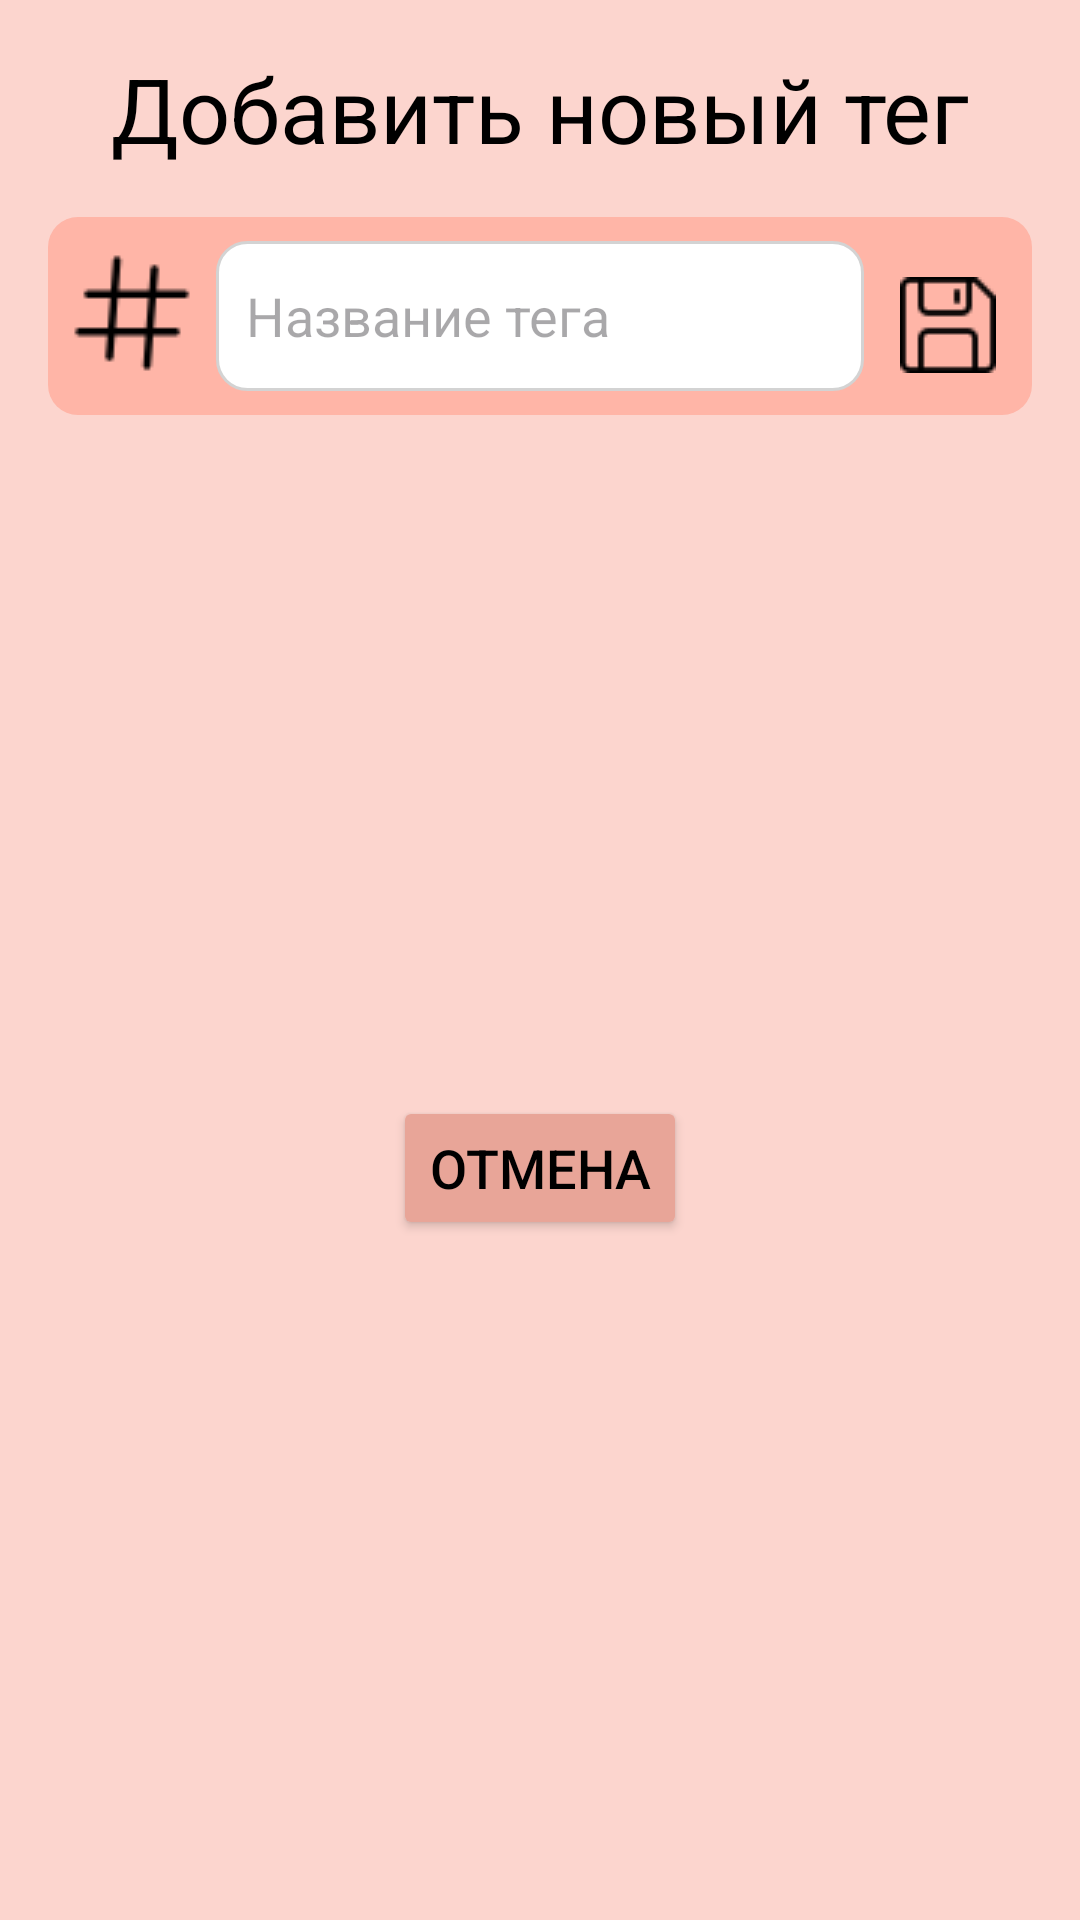

Named icons in this screenshot (1080 x 1920) and their bounding boxes, BBox(x1, y1, x2, y2):
save: BBox(900, 277, 996, 373)
sharp: BBox(74, 255, 190, 371)
